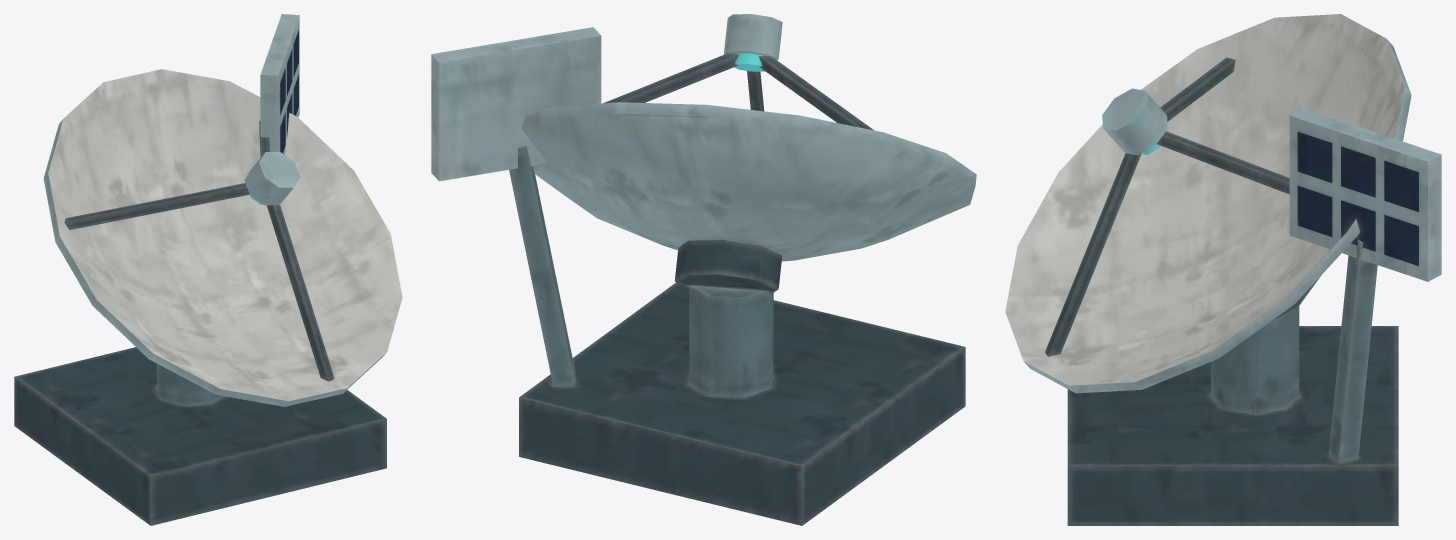
The model's file is sensor_array.glb.
The picture shows the model from 3 angles, left to right: view 1: azimuth 30°, elevation 25°; view 2: azimuth 150°, elevation 25°; view 3: azimuth 270°, elevation 25°; orthographic projection. The views are drawn at different scales.
Visible parts, largest first — view 1: te_res_sensor_array; view 2: te_res_sensor_array; view 3: te_res_sensor_array.
Part boxes in pixels (x1=…): te_res_sensor_array: x1=14, y1=14, x2=402, y2=525; te_res_sensor_array: x1=431, y1=14, x2=976, y2=525; te_res_sensor_array: x1=1005, y1=14, x2=1441, y2=525.
Bounding box in the file's own units: 0.4301 × 0.4 × 0.3952.
Materials: 1 (1 with a texture image).
